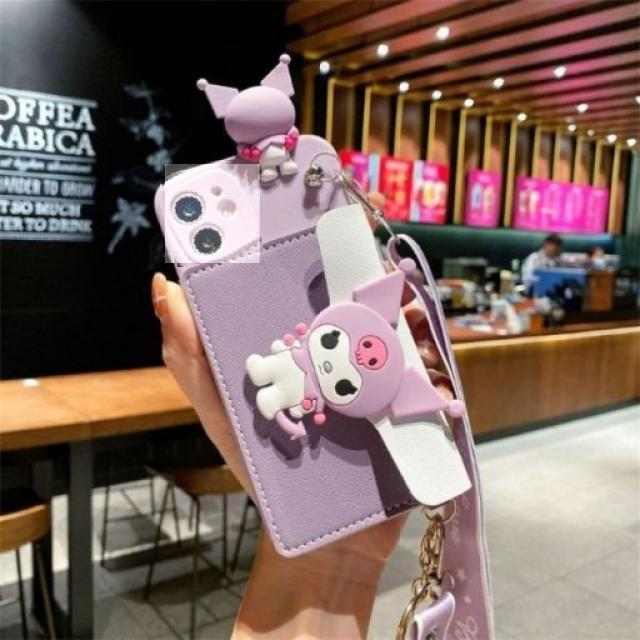lens: (168, 184, 240, 258)
phone: (154, 134, 471, 557)
